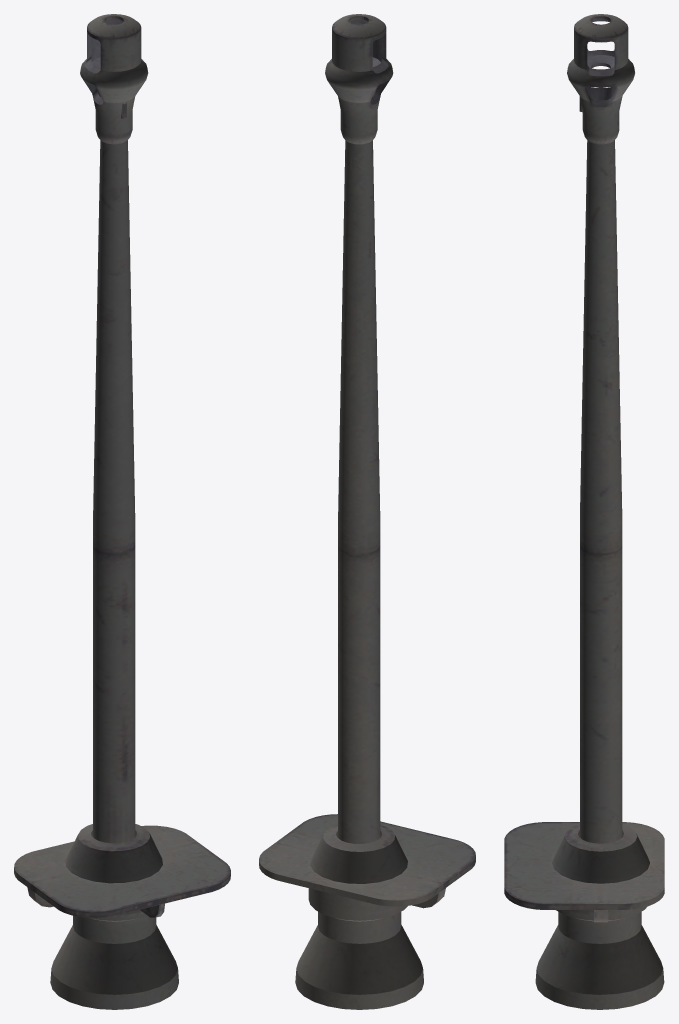
Rendered from Gun_01.glb.
3 renders of one model, left to right at view 1: azimuth 30°, elevation 25°; view 2: azimuth 150°, elevation 25°; view 3: azimuth 270°, elevation 25°, orthographic.
Parts seen in each view (by area): view 1: set_0_group_0; view 2: set_0_group_0; view 3: set_0_group_0.
Part boxes in pixels (x1=…): set_0_group_0: x1=14, y1=14, x2=230, y2=1009; set_0_group_0: x1=259, y1=14, x2=475, y2=1009; set_0_group_0: x1=504, y1=14, x2=664, y2=1009.
Bounding box in the file's own units: 0.8568 × 4.69 × 0.7077.
Materials: 1 (1 with a texture image).
